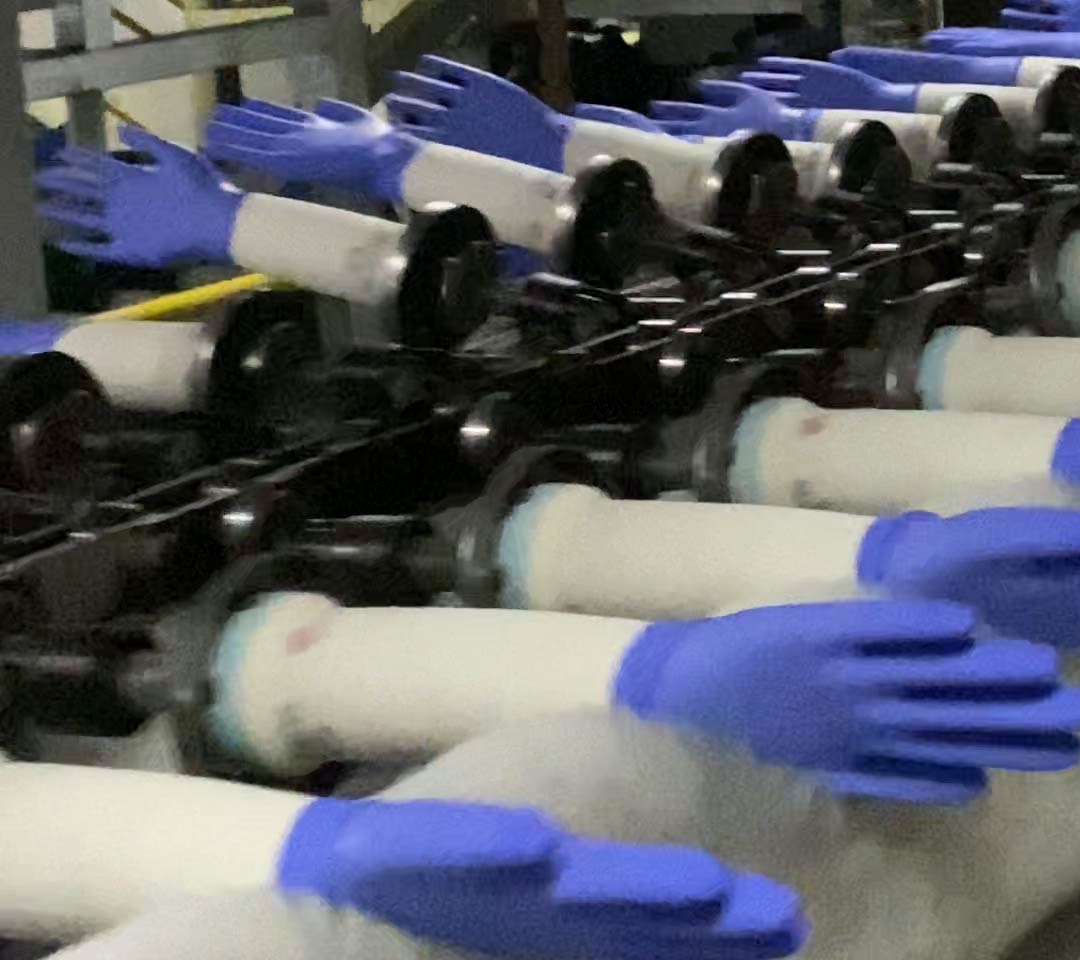glove: (616, 597, 1080, 805), (274, 790, 805, 960), (23, 120, 246, 276), (200, 90, 421, 202), (381, 52, 570, 177)
